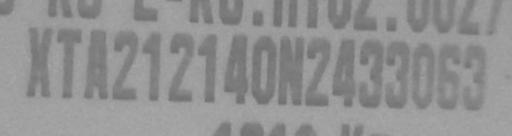letter: (24, 23, 54, 99), (221, 30, 251, 106), (54, 25, 84, 100), (110, 27, 140, 102), (356, 35, 386, 110), (166, 28, 196, 102), (275, 34, 305, 108), (434, 38, 464, 109), (83, 25, 111, 100), (248, 33, 276, 105), (304, 34, 332, 106), (330, 36, 358, 108), (382, 38, 410, 110), (408, 38, 436, 109), (138, 28, 164, 104), (460, 42, 488, 110), (195, 31, 219, 103)
